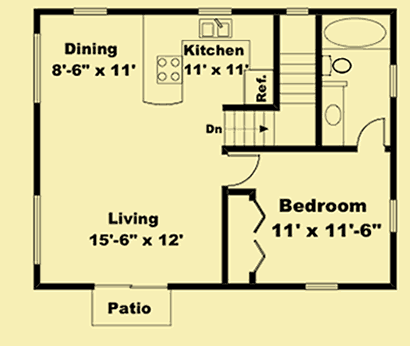door: (223, 154, 264, 188), (356, 117, 387, 151)
large_sink: (321, 54, 352, 78)
small_sink: (323, 85, 347, 148)
stairs: (272, 14, 322, 107), (205, 105, 285, 152)
tub: (322, 15, 390, 51)
twin_sink: (196, 16, 236, 40)
window: (31, 30, 42, 104), (32, 195, 42, 266), (387, 64, 400, 97), (388, 199, 399, 234), (302, 282, 338, 291), (71, 8, 109, 16)
